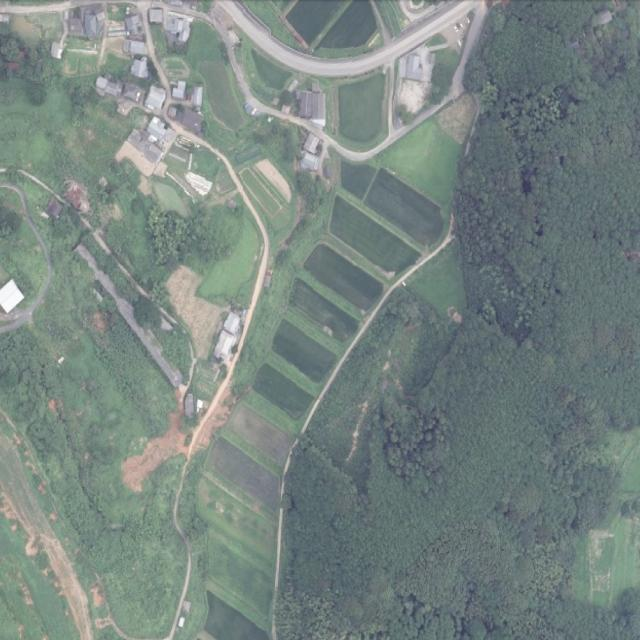landslide: (120, 413, 186, 493), (436, 92, 477, 143)
